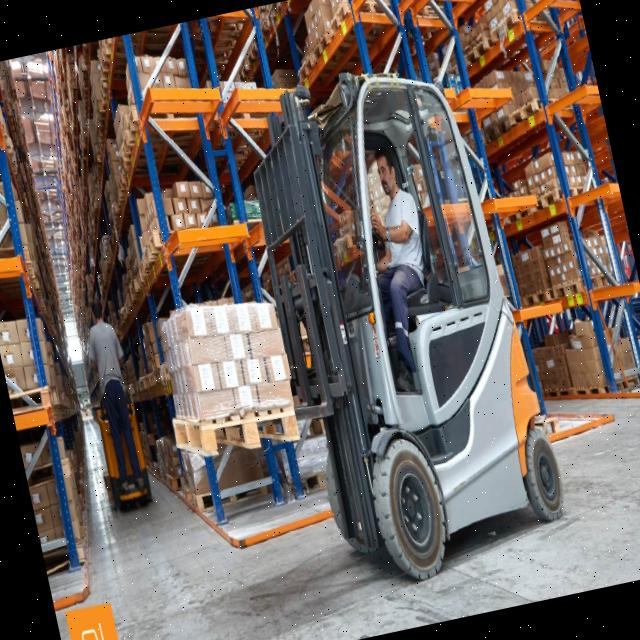Person: (348, 145, 454, 395), (76, 291, 153, 498)
